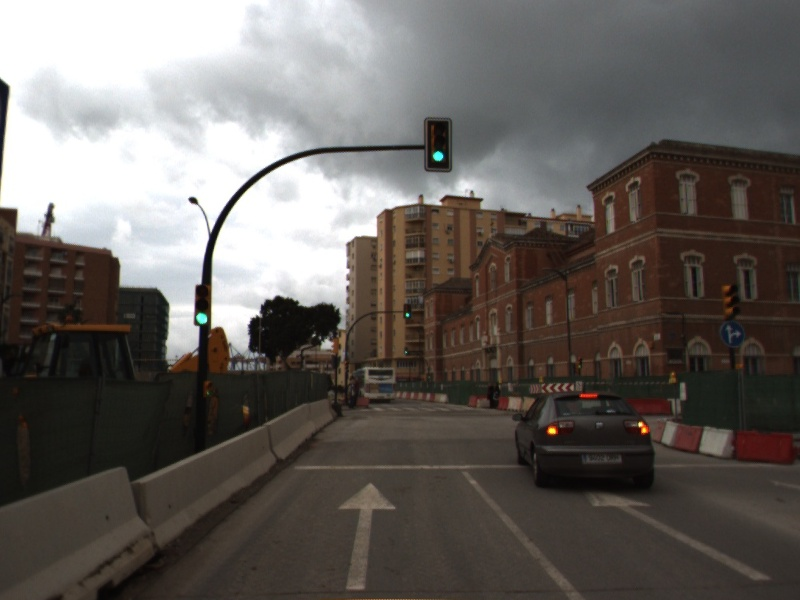STRAIGHT: (583, 485, 775, 583), (335, 480, 400, 591)
